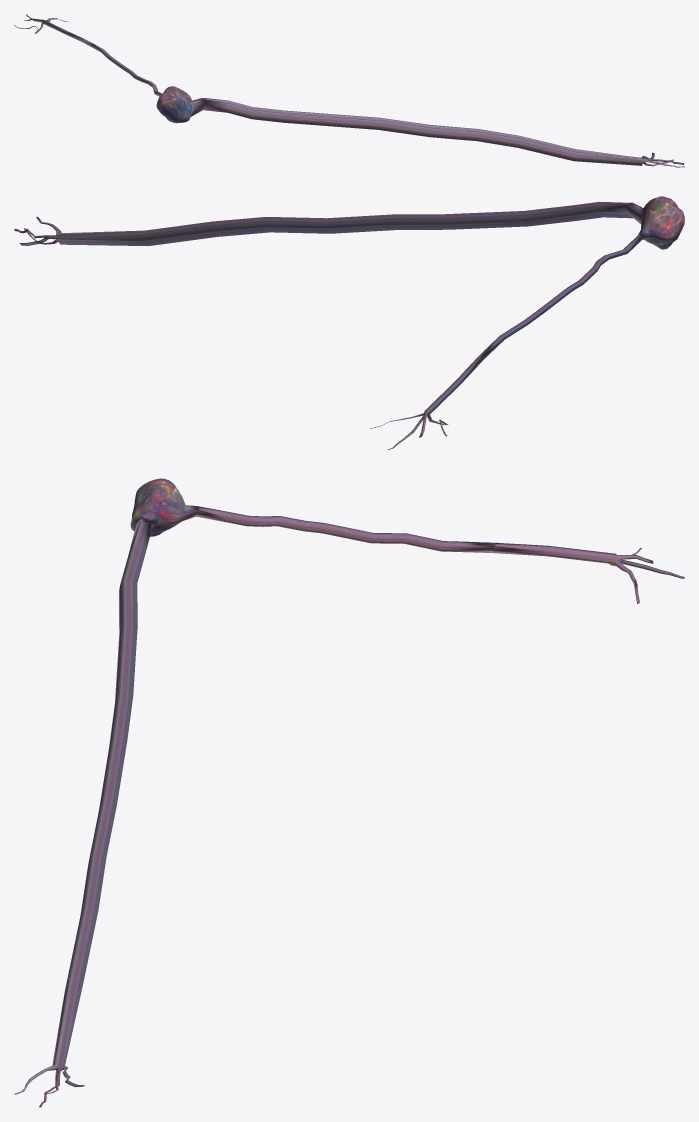
The model's file is lastneuron2.fbx.
3 views of the same model, one above another, from view 1: azimuth 30°, elevation 25°; view 2: azimuth 150°, elevation 25°; view 3: azimuth 270°, elevation 25° (orthographic). The views are drawn at different scales.
Visible parts, largest first — view 1: duplicated ex; view 2: duplicated ex; view 3: duplicated ex.
Part boxes in pixels (bbox=[...]): duplicated ex: bbox=[14, 14, 684, 167]; duplicated ex: bbox=[14, 196, 684, 449]; duplicated ex: bbox=[14, 478, 684, 1107].
Size of the model in its own units: 134193 by 43406 by 100743.
